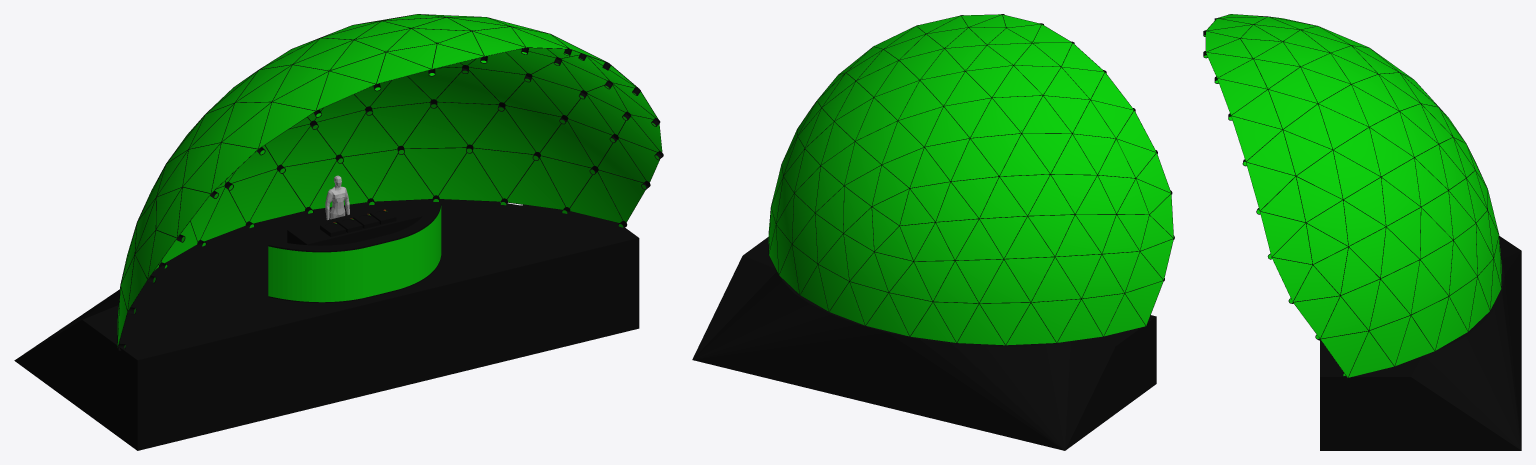
File: domeMergedALL.obj
3 renders of one model, left to right at view 1: azimuth 30°, elevation 25°; view 2: azimuth 150°, elevation 25°; view 3: azimuth 270°, elevation 25°, orthographic. The views are drawn at different scales.
Visible parts, largest first — view 1: domeMerger_mergedObject_domeMerger_mergedObject.001, stage_Cube.015, domeWire_Untitled.011, actualDjBooth_Cube.017, cdjs_Cube.016, dj_Cube.018; view 2: domeMerger_mergedObject_domeMerger_mergedObject.001, stage_Cube.015, domeWire_Untitled.011; view 3: domeMerger_mergedObject_domeMerger_mergedObject.001, stage_Cube.015, domeWire_Untitled.011.
Boxes of the visible parts, left/top/right/bottom form: domeMerger_mergedObject_domeMerger_mergedObject.001: left=117, top=14, right=663, bottom=350; stage_Cube.015: left=14, top=199, right=639, bottom=450; domeWire_Untitled.011: left=117, top=14, right=662, bottom=348; actualDjBooth_Cube.017: left=287, top=201, right=423, bottom=245; cdjs_Cube.016: left=320, top=209, right=396, bottom=236; dj_Cube.018: left=325, top=175, right=349, bottom=220; domeMerger_mergedObject_domeMerger_mergedObject.001: left=768, top=14, right=1174, bottom=345; stage_Cube.015: left=692, top=237, right=1156, bottom=450; domeWire_Untitled.011: left=768, top=14, right=1173, bottom=345; domeMerger_mergedObject_domeMerger_mergedObject.001: left=1203, top=14, right=1501, bottom=379; stage_Cube.015: left=1320, top=236, right=1521, bottom=450; domeWire_Untitled.011: left=1205, top=14, right=1501, bottom=378.
Bounding box in the file's own units: 12.15 × 8.5 × 7.86.
